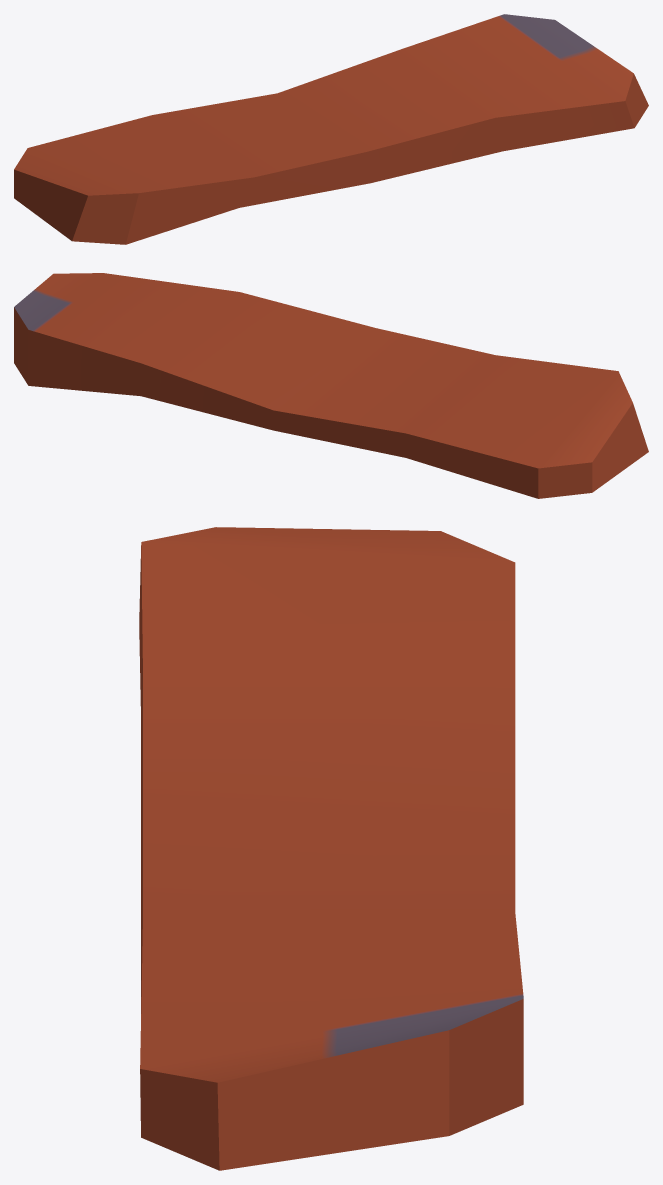
File: Stairs_2.fbx
3 renders of one model, top to bottom at view 1: azimuth 30°, elevation 25°; view 2: azimuth 150°, elevation 25°; view 3: azimuth 270°, elevation 25°, orthographic. The views are drawn at different scales.
Visible parts, largest first — view 1: Stairs; view 2: Stairs; view 3: Stairs.
Boxes of the visible parts, x1,y1,x2,y2 form: Stairs: (14, 14, 648, 244); Stairs: (14, 273, 648, 498); Stairs: (139, 527, 523, 1170).
Size of the model in its own units: 360 by 103 by 33.42.
